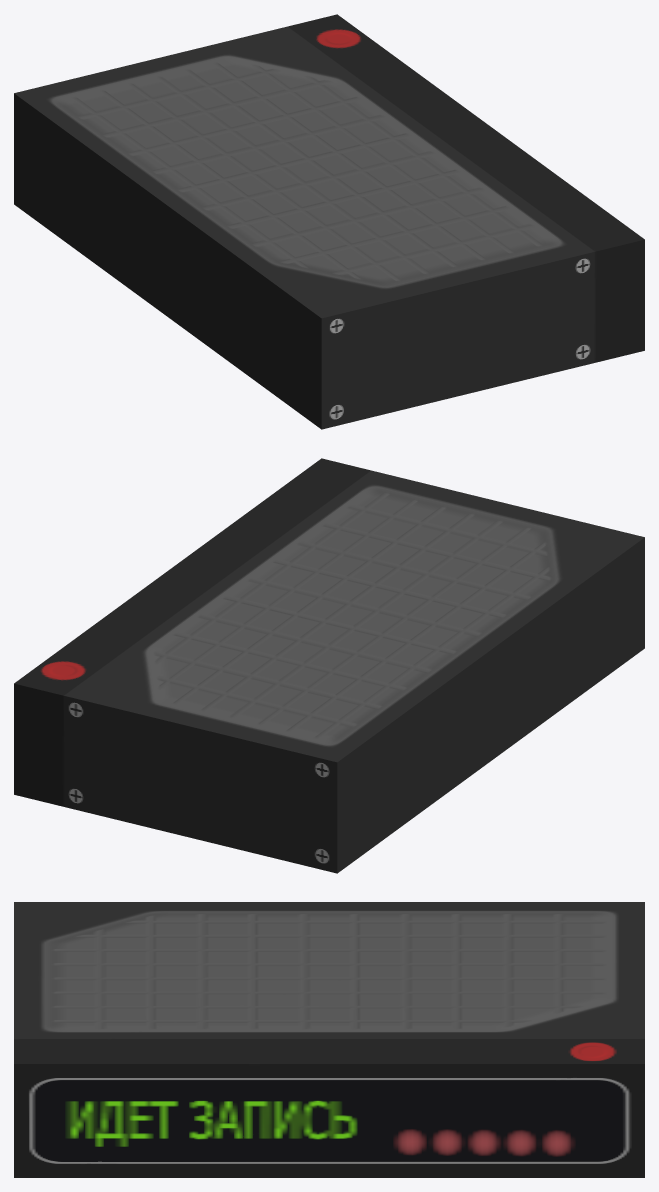
The picture shows the model from 3 angles, top to bottom: view 1: azimuth 30°, elevation 25°; view 2: azimuth 150°, elevation 25°; view 3: azimuth 270°, elevation 25°; orthographic projection. The views are drawn at different scales.
Visible parts, largest first — view 1: Object_2; view 2: Object_2; view 3: Object_2.
Boxes of the visible parts, box(x1,y1,x2,y2) form: Object_2: box(14, 14, 644, 429); Object_2: box(14, 458, 644, 873); Object_2: box(14, 902, 644, 1177).
Size of the model in its own units: 2.5 by 0.8223 by 4.12.
1 material, 1 textured.
